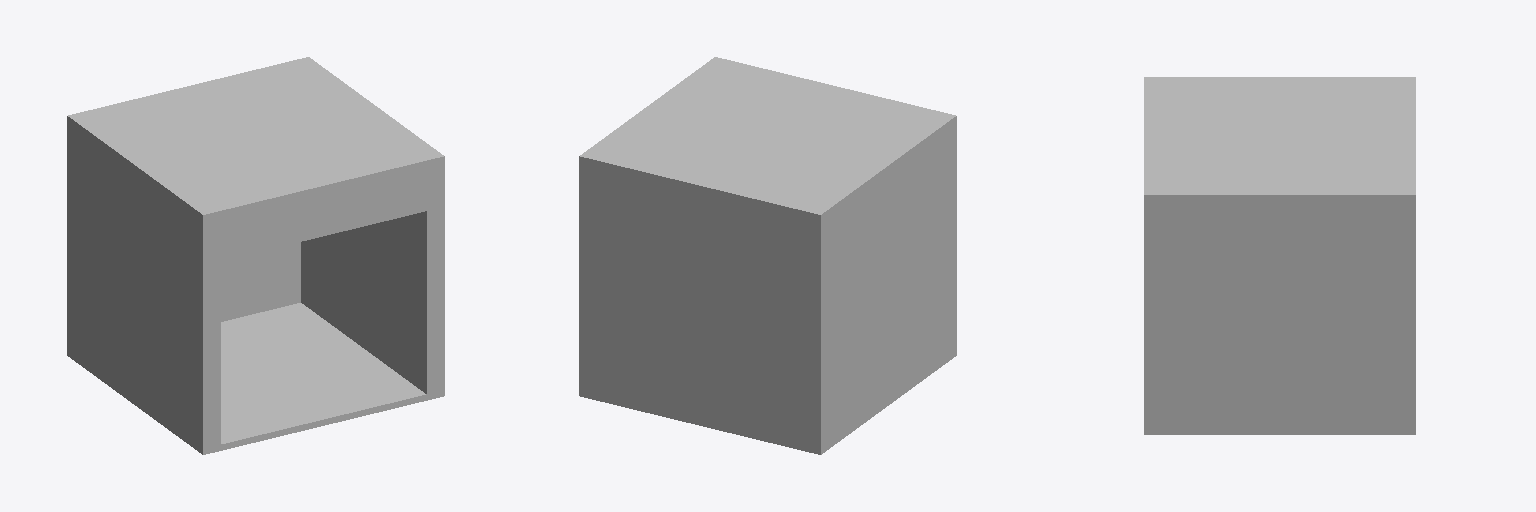
File: robot station shell.obj
The picture shows the model from 3 angles: view 1: azimuth 30°, elevation 25°; view 2: azimuth 150°, elevation 25°; view 3: azimuth 270°, elevation 25°; orthographic projection.
Parts seen in each view (by area): view 1: object 1; view 2: object 1; view 3: object 1.
Boxes of the visible parts, box(x1,y1,x2,y2) form: object 1: box(67, 57, 444, 454); object 1: box(579, 57, 956, 454); object 1: box(1144, 77, 1415, 434).
Size of the model in its own units: 4 by 3.8 by 3.9.